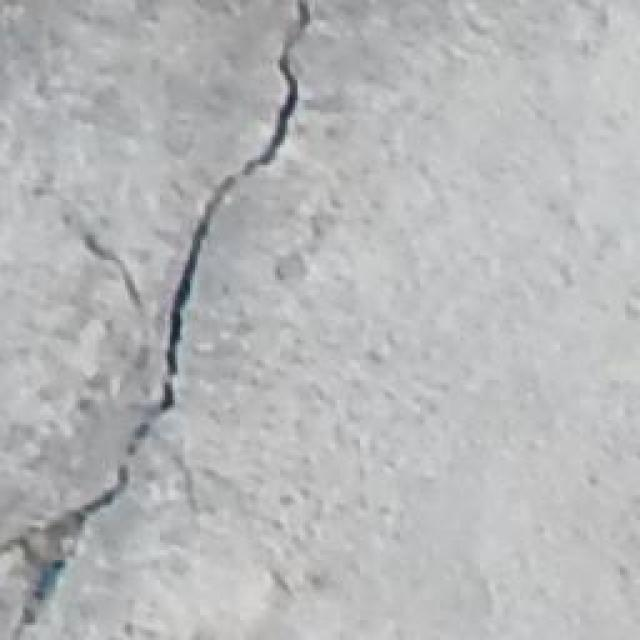concrete-crack: (2, 0, 317, 640), (68, 221, 151, 334)
